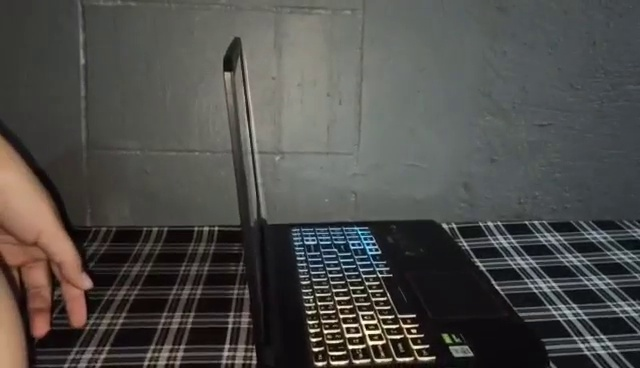laptop: (221, 41, 545, 368)
